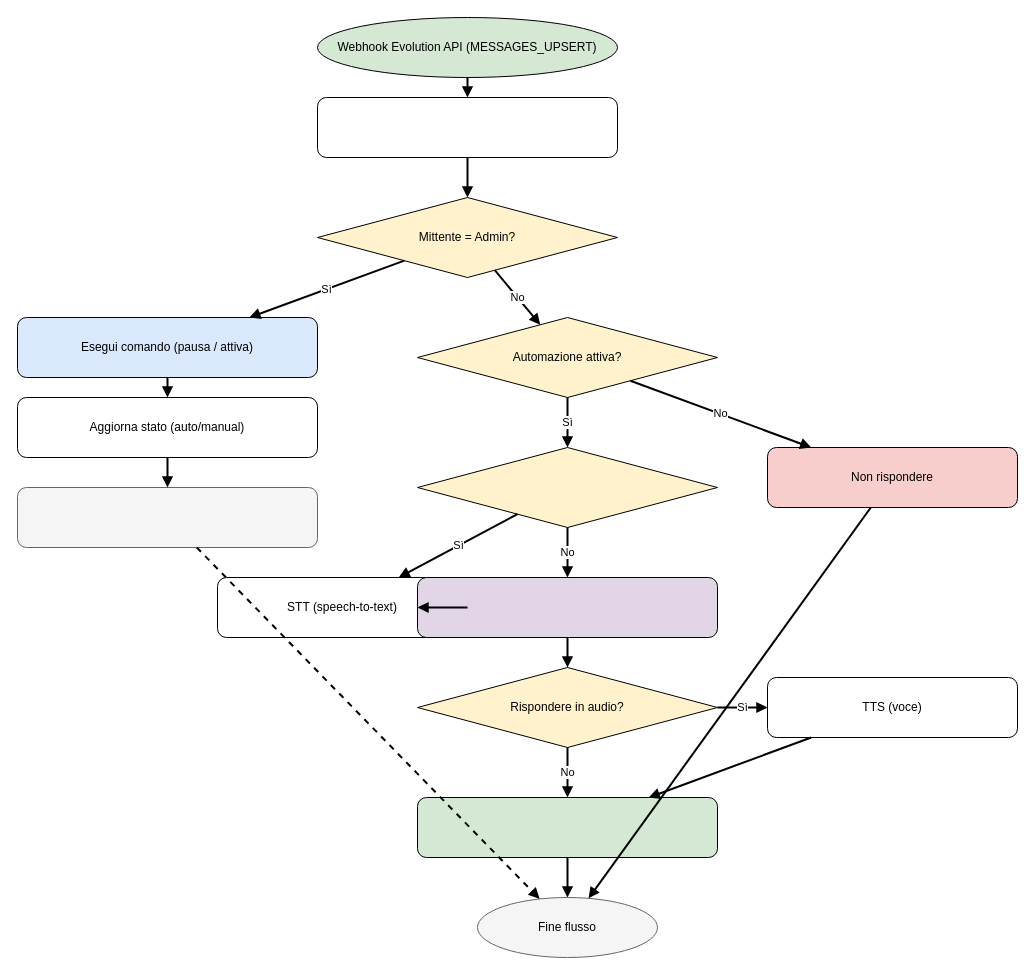
Some shapes in this 1035 by 975 pixel diagram are drawn without their labels. Here are the shapes that lost their labels. From the top down, the centre of each, then its label:
At (x=467, y=127): "Salva evento nel DB".
At (x=567, y=487): "Messaggio audio?".
At (x=167, y=517): "Fine flusso admin".
At (x=567, y=607): "LLM (genera risposta)".
At (x=567, y=827): "Invia risposta via Evolution API".
